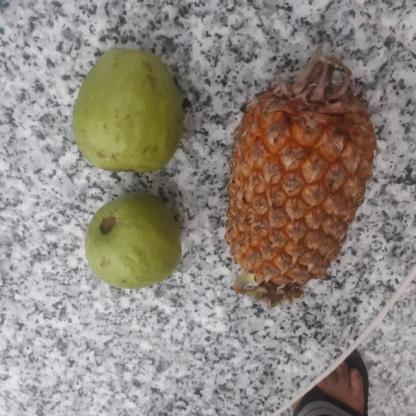guava: (69, 49, 188, 170), (79, 195, 182, 288)
pineapple: (221, 86, 377, 297)
